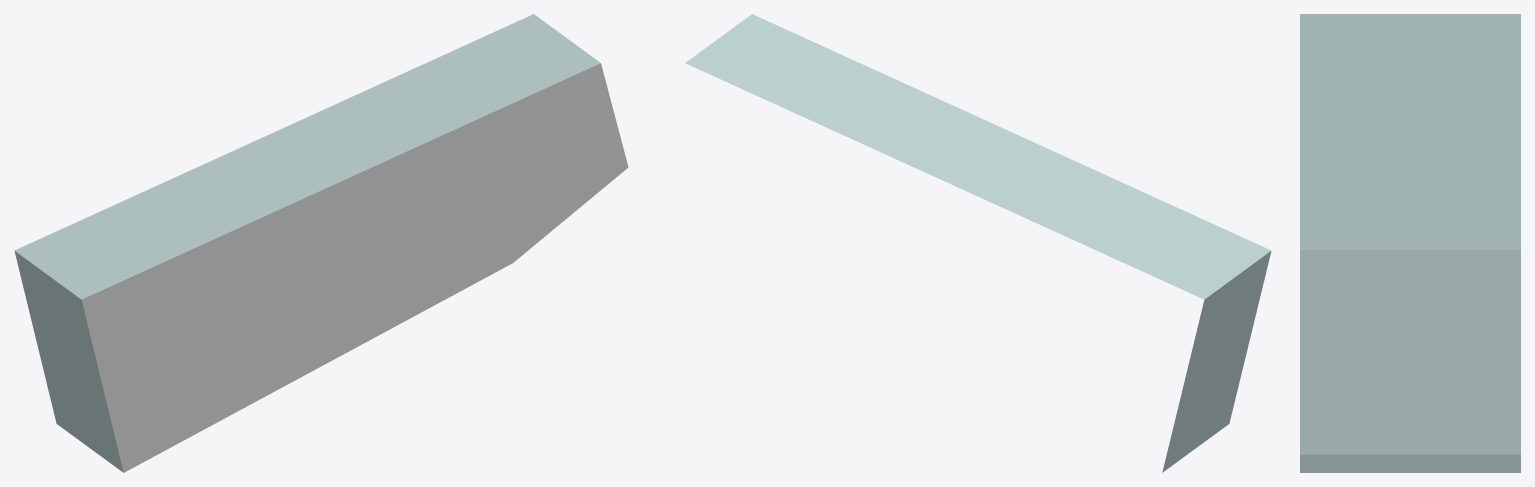
The picture shows the model from 3 angles, left to right: view 1: azimuth 30°, elevation 25°; view 2: azimuth 150°, elevation 25°; view 3: azimuth 270°, elevation 25°; orthographic projection. The views are drawn at different scales.
Visible parts, largest first — view 1: 0_0_2_3_2_2_3_3_3; view 2: 0_0_2_3_2_2_3_3_3; view 3: 0_0_2_3_2_2_3_3_3.
Boxes of the visible parts, left/top/right/bottom form: 0_0_2_3_2_2_3_3_3: left=14, top=14, right=628, bottom=472; 0_0_2_3_2_2_3_3_3: left=685, top=14, right=1271, bottom=472; 0_0_2_3_2_2_3_3_3: left=1300, top=14, right=1520, bottom=472.
Size of the model in its own units: 14.1 by 7.23 by 3.
